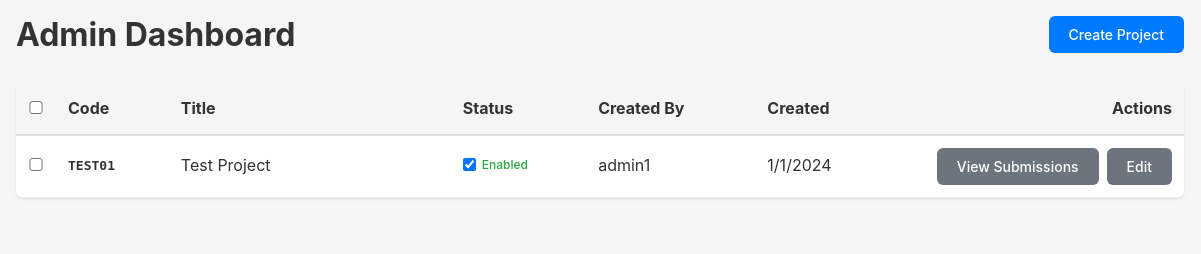
Test: AdminDashboard › Project Enable/Disable Toggle › should display error when toggle fails
Expected: the text "Test Project" is shown, [169,135,451,197]
Click the checkbox labelled "Enabled".
click(469, 165)  # box [463,158,476,171]
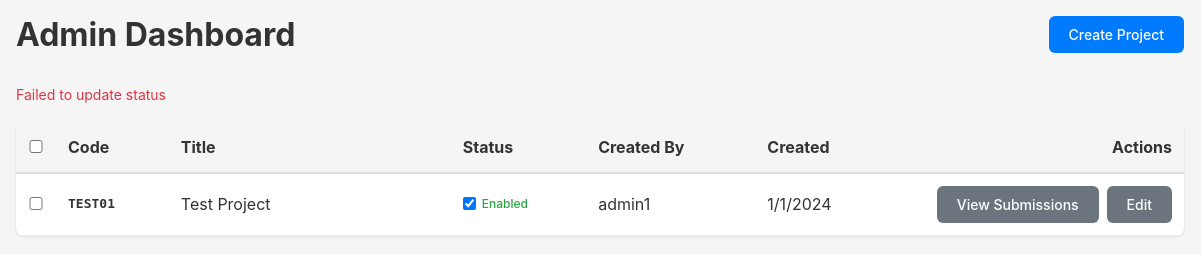
Result: the text "Failed to update status" is shown at [16,86,166,103]
